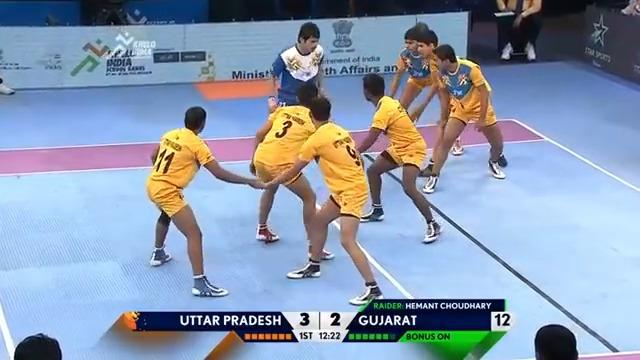Player: (265, 94, 385, 306), (142, 102, 269, 299), (354, 72, 443, 243), (418, 43, 508, 193), (387, 22, 464, 172)
Raider: (267, 21, 325, 114)
referee: (497, 0, 542, 61), (12, 332, 62, 359)
